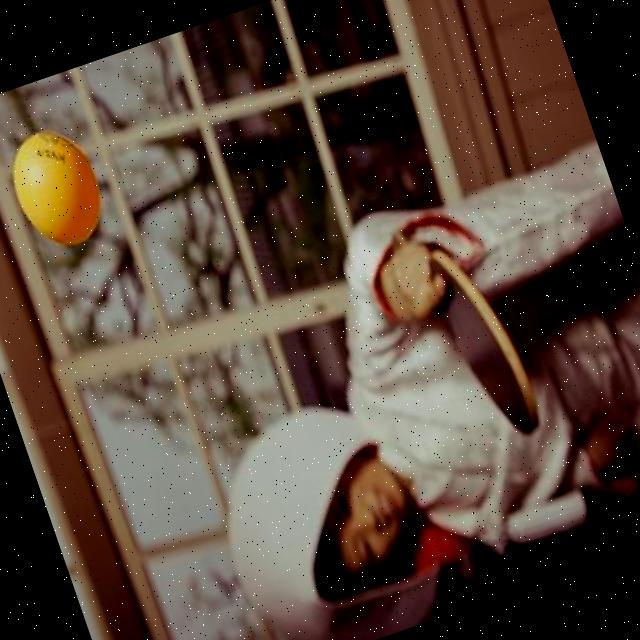ping-pong-ball: (0, 117, 115, 256)
